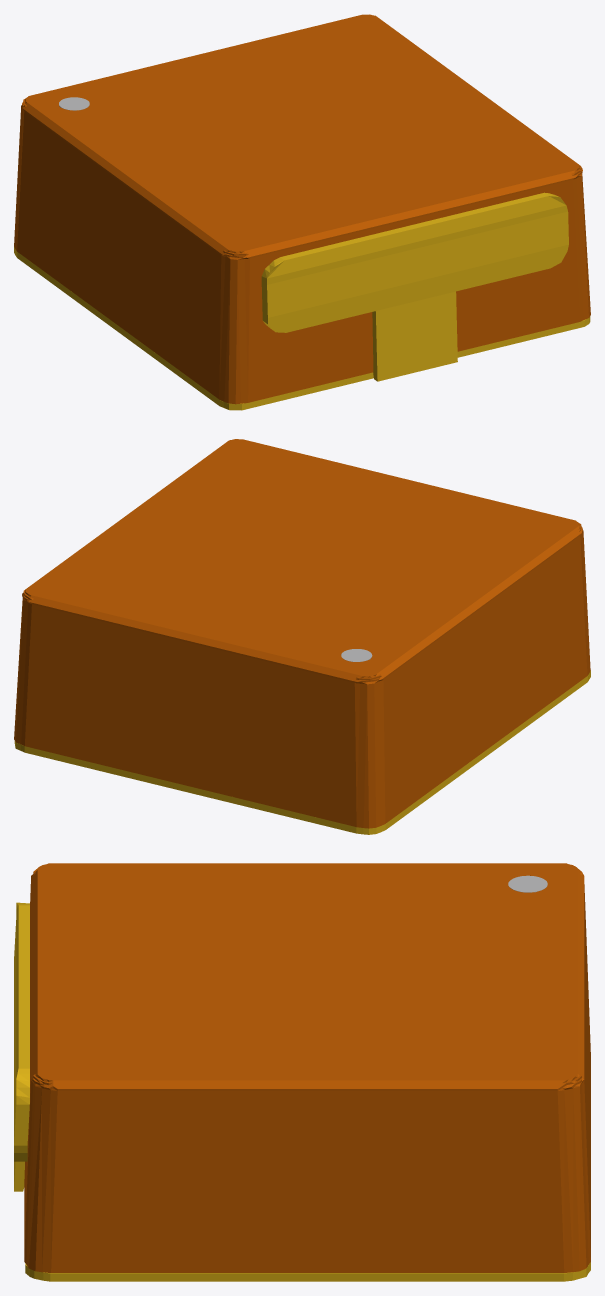
Rendered from thingy91x.glb.
3 views of the same model, one above another, from view 1: azimuth 30°, elevation 25°; view 2: azimuth 150°, elevation 25°; view 3: azimuth 270°, elevation 25° (orthographic). The views are drawn at different scales.
Parts seen in each view (by area): view 1: Body1, Body2; view 2: Body1, Body2; view 3: Body1, Body2, Body3.
Part boxes in pixels (x1,y1,x2,y2): Body1: (14, 14, 590, 404); Body2: (14, 192, 590, 410); Body1: (14, 439, 590, 828); Body2: (14, 670, 590, 834); Body1: (24, 863, 590, 1272); Body2: (14, 902, 590, 1281); Body3: (508, 875, 547, 892).
Size of the model in its own units: 6.01 by 2.4 by 6.41.
